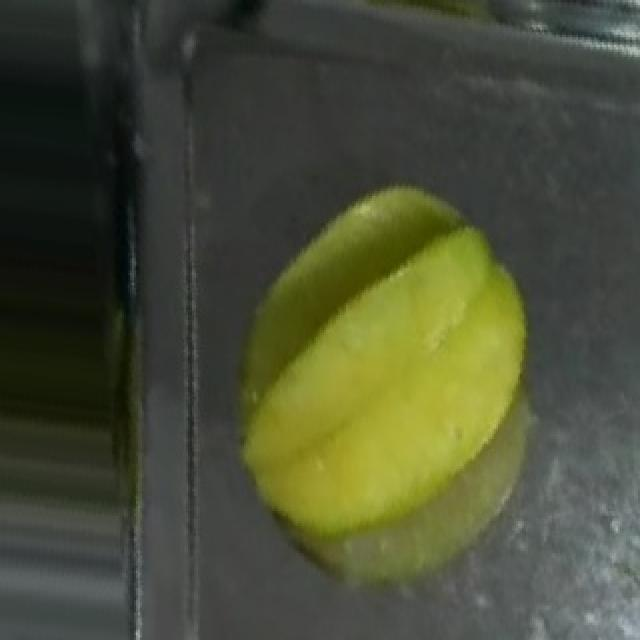fruit: (232, 156, 574, 561)
